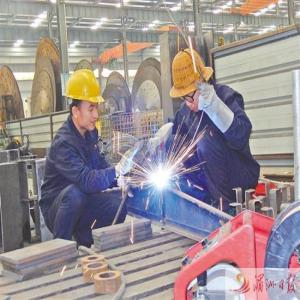yellow: (67, 72, 104, 132), (171, 50, 207, 111)
